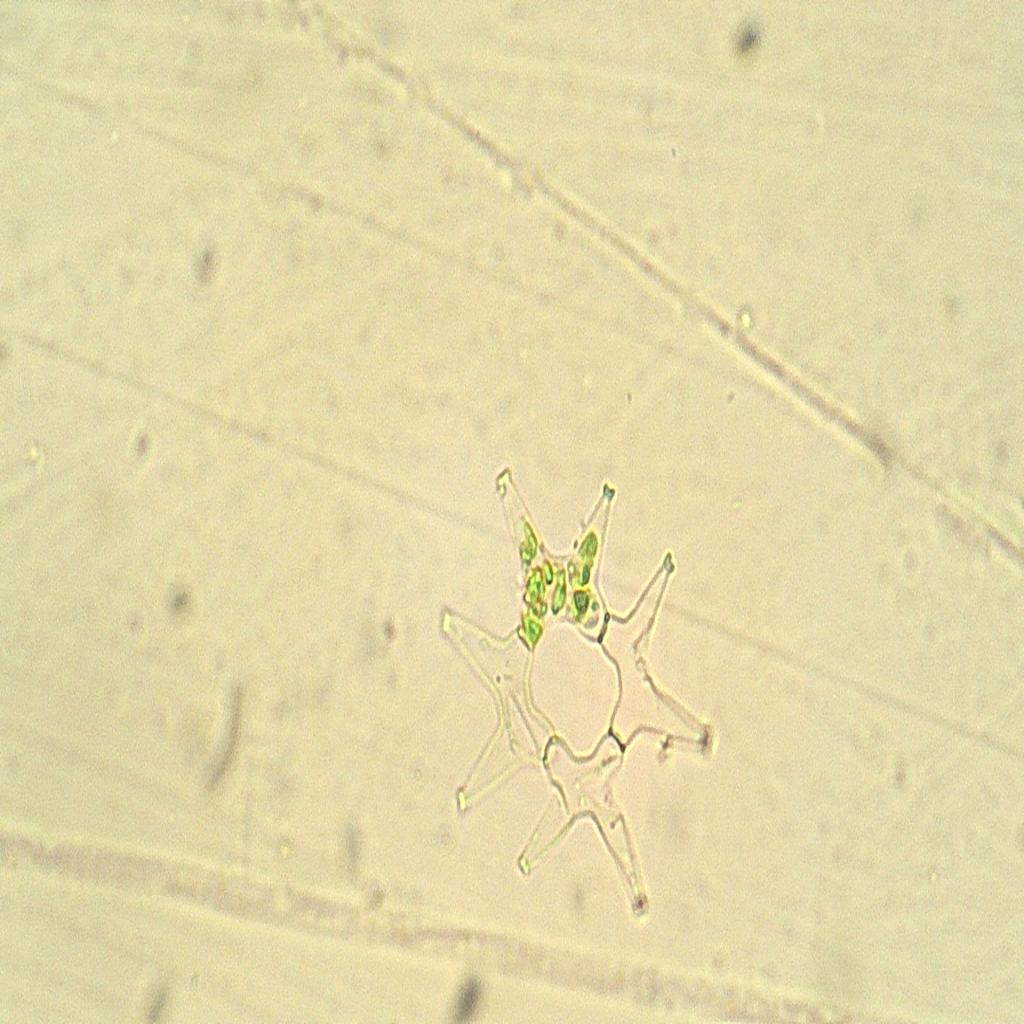Pediastrum_1F0: (424, 437, 730, 950)
